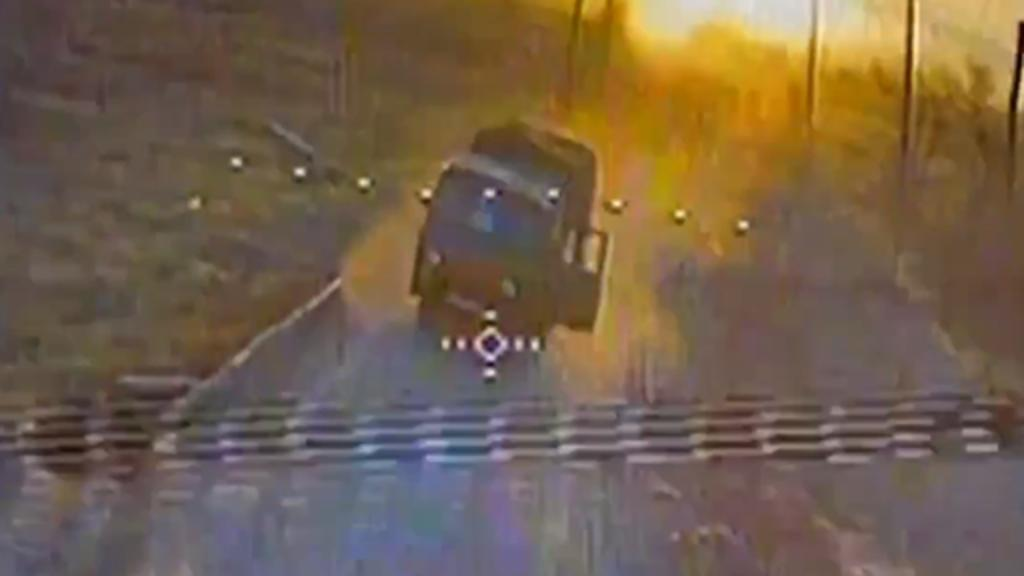CAR: (398, 106, 610, 352)
